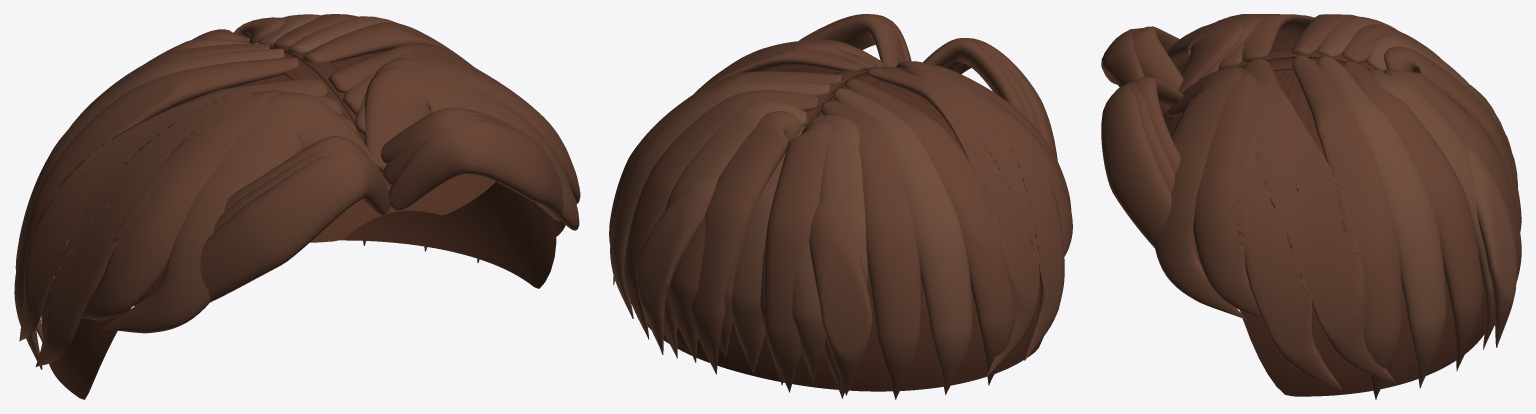
Rendered from Masculine-middle-part-pashmina251-hair.glb.
3 views of the same model, side by side, from view 1: azimuth 30°, elevation 25°; view 2: azimuth 150°, elevation 25°; view 3: azimuth 270°, elevation 25° (orthographic). The views are drawn at different scales.
Visible parts, largest first — view 1: 226 hair / Hair / chestnut226.002, 226 hair / Hair / recessed roots251.002, 226 hair / Hair / main251.001, 226 hair / Hair / accent251.001, 226 hair / Hair / recessed roots251.003; view 2: 226 hair / Hair / main251.001, 226 hair / Hair / accent251.001, 226 hair / Hair / chestnut226.002, 226 hair / Hair / recessed roots251.002, 226 hair / Hair / recessed roots251.003; view 3: 226 hair / Hair / chestnut226.002, 226 hair / Hair / main251.001, 226 hair / Hair / accent251.001, 226 hair / Hair / recessed roots251.002, 226 hair / Hair / recessed roots251.003.
Boxes of the visible parts, <box> form: 226 hair / Hair / chestnut226.002: <box>19,44,580,366</box>; 226 hair / Hair / recessed roots251.002: <box>41,51,556,399</box>; 226 hair / Hair / main251.001: <box>14,14,479,369</box>; 226 hair / Hair / accent251.001: <box>15,14,427,342</box>; 226 hair / Hair / recessed roots251.003: <box>269,44,383,175</box>; 226 hair / Hair / main251.001: <box>609,71,1015,399</box>; 226 hair / Hair / accent251.001: <box>610,80,972,398</box>; 226 hair / Hair / chestnut226.002: <box>613,14,1072,376</box>; 226 hair / Hair / recessed roots251.002: <box>647,67,1043,391</box>; 226 hair / Hair / recessed roots251.003: <box>804,69,879,126</box>; 226 hair / Hair / chestnut226.002: <box>1101,14,1396,390</box>; 226 hair / Hair / main251.001: <box>1292,14,1521,399</box>; 226 hair / Hair / accent251.001: <box>1317,16,1517,388</box>; 226 hair / Hair / recessed roots251.002: <box>1164,35,1485,396</box>; 226 hair / Hair / recessed roots251.003: <box>1169,48,1374,120</box>.
Bounding box in the file's own units: 1.07 × 0.5895 × 0.8758.
